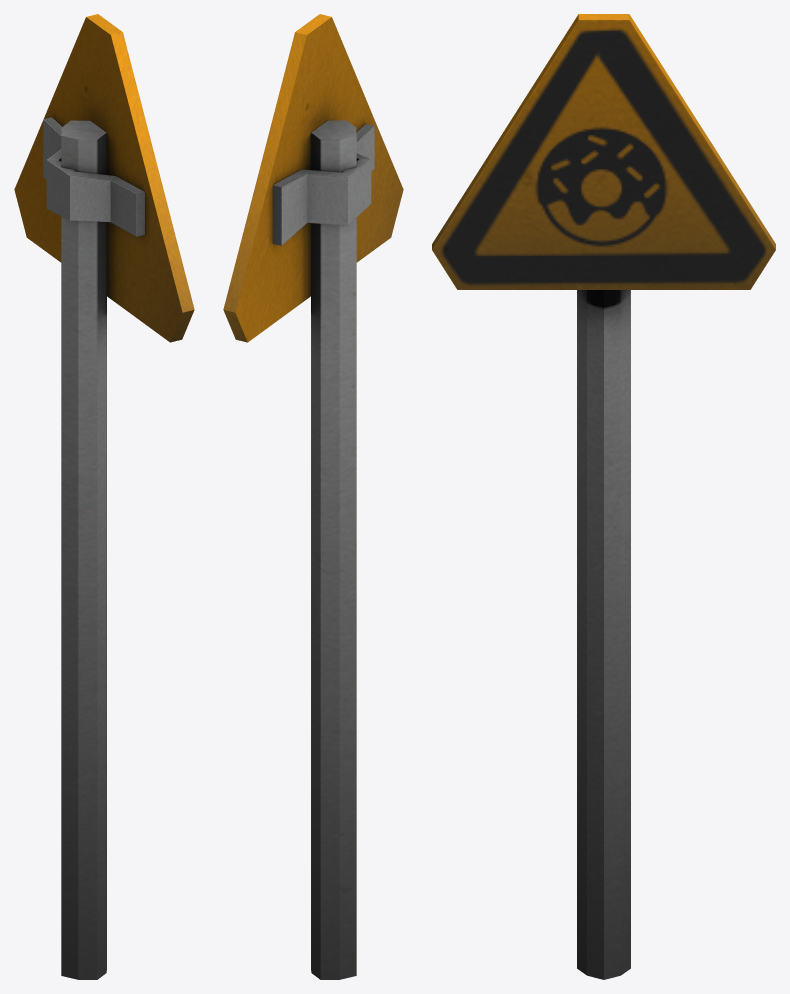
Rendered from Prop_SignTriangle.FBX.
3 renders of one model, left to right at view 1: azimuth 30°, elevation 25°; view 2: azimuth 150°, elevation 25°; view 3: azimuth 270°, elevation 25°, orthographic. The views are drawn at different scales.
Visible parts, largest first — view 1: Prop_SignTri; view 2: Prop_SignTri; view 3: Prop_SignTri.
Part boxes in pixels (box(x1,y1,x2,y2)): Prop_SignTri: box(14, 14, 194, 979); Prop_SignTri: box(223, 14, 403, 979); Prop_SignTri: box(432, 14, 775, 979).
Bounding box in the file's own units: 10.15 × 175 × 56.64.
